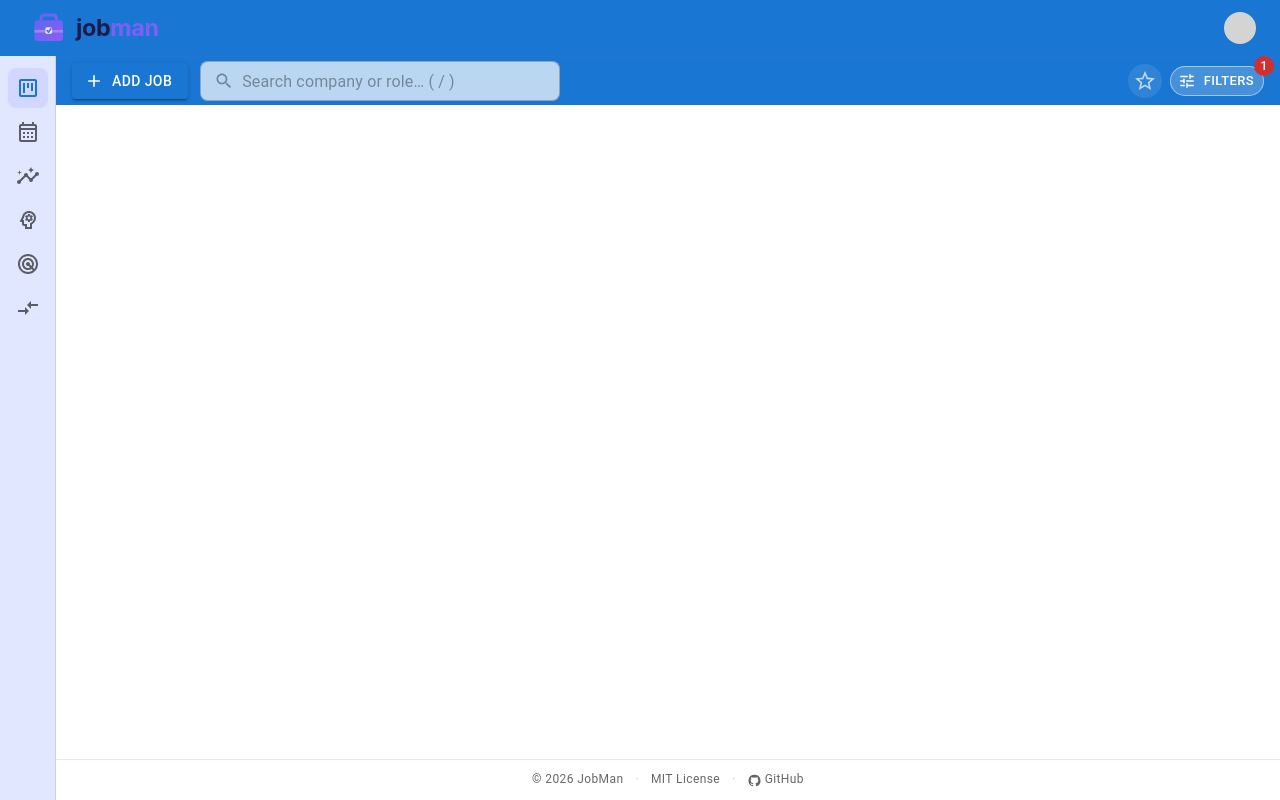
Scenario: jobManagementPage › opens the add job dialog when 'Add Job' is clicked
Click the button "Add Job". click: coordinates (130, 81)
box: [72,63,188,99]
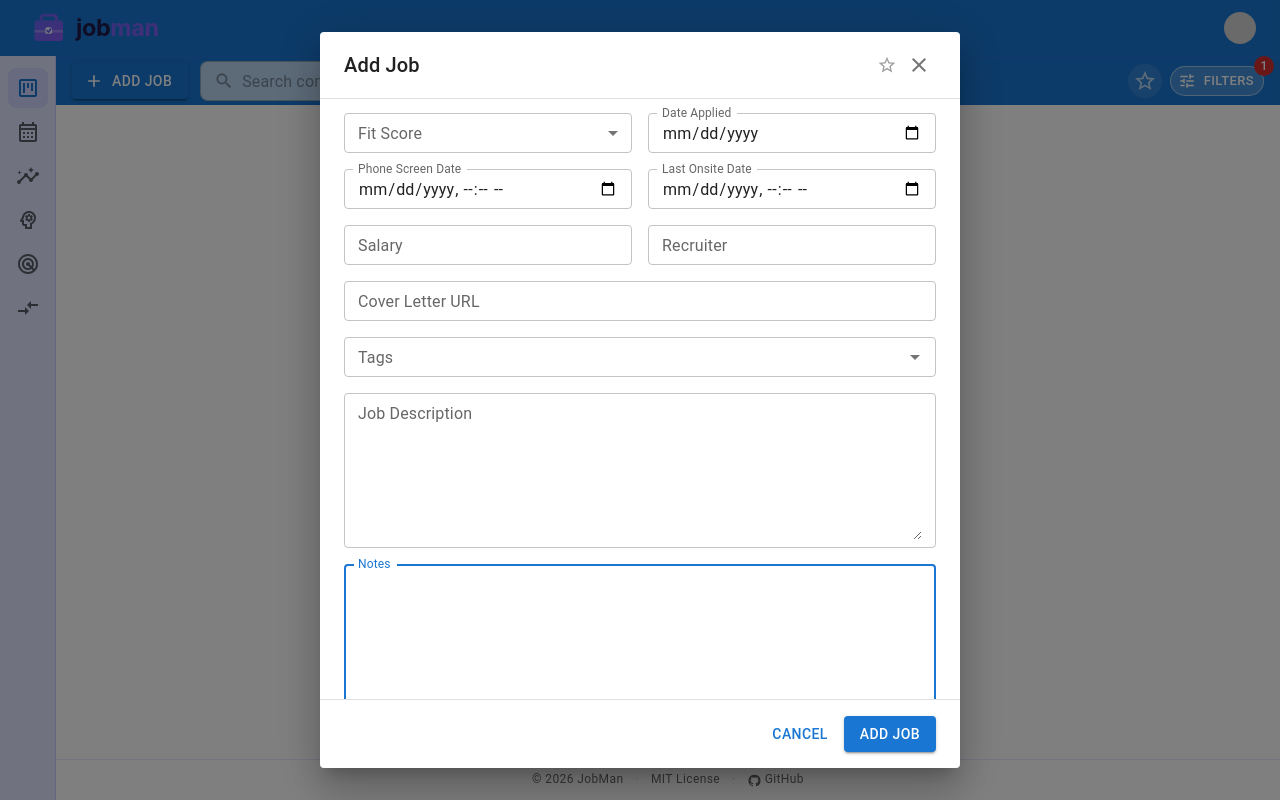
Expected: the heading "Add Job" is shown, [344,48,936,82]
